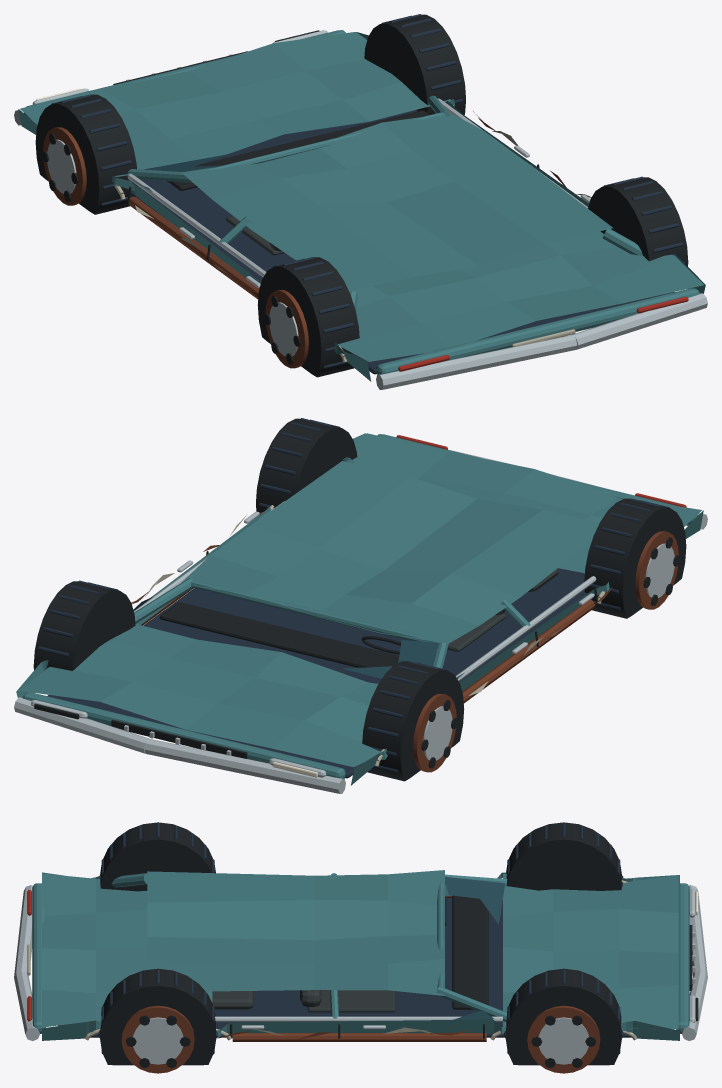
File: crush_car_1_folded.glb
3 views of the same model, one above another, from view 1: azimuth 30°, elevation 25°; view 2: azimuth 150°, elevation 25°; view 3: azimuth 270°, elevation 25° (orthographic). The views are drawn at different scales.
Parts seen in each view (by area): view 1: Wreck_Faded petrol estate.001, Wreck_Rubber, Wreck_Bare alloy, Wreck_Truss steel, Wreck_Exposed rust.003, Wreck_Scraped primer.003, Wreck_Wreck glass, Wreck_Cracked tail lens.003; view 2: Wreck_Faded petrol estate.001, Wreck_Rubber, Wreck_Truss steel, Wreck_Bare alloy, Wreck_Exposed rust.003, Wreck_Wreck glass, Wreck_Torn charcoal upholstery.003; view 3: Wreck_Faded petrol estate.001, Wreck_Rubber, Wreck_Bare alloy, Wreck_Truss steel, Wreck_Exposed rust.003, Wreck_Torn charcoal upholstery.003, Wreck_Wreck glass, Wreck_Scraped primer.003.
Boxes of the visible parts, bbox=[...] form: Wreck_Faded petrol estate.001: bbox=[18, 30, 705, 381]; Wreck_Rubber: bbox=[35, 14, 688, 377]; Wreck_Bare alloy: bbox=[14, 30, 707, 389]; Wreck_Truss steel: bbox=[52, 14, 684, 374]; Wreck_Exposed rust.003: bbox=[43, 111, 566, 368]; Wreck_Scraped primer.003: bbox=[114, 105, 591, 362]; Wreck_Wreck glass: bbox=[132, 100, 468, 194]; Wreck_Cracked tail lens.003: bbox=[398, 296, 688, 371]; Wreck_Faded petrol estate.001: bbox=[16, 433, 703, 785]; Wreck_Rubber: bbox=[33, 418, 686, 781]; Wreck_Truss steel: bbox=[37, 418, 669, 778]; Wreck_Bare alloy: bbox=[14, 434, 707, 793]; Wreck_Exposed rust.003: bbox=[131, 512, 678, 772]; Wreck_Wreck glass: bbox=[133, 597, 469, 678]; Wreck_Torn charcoal upholstery.003: bbox=[447, 568, 559, 651]; Wreck_Faded petrol estate.001: bbox=[32, 870, 689, 1040]; Wreck_Rubber: bbox=[100, 822, 698, 1068]; Wreck_Bare alloy: bbox=[14, 883, 707, 1064]; Wreck_Truss steel: bbox=[58, 823, 631, 1054]; Wreck_Exposed rust.003: bbox=[121, 895, 600, 1073]; Wreck_Torn charcoal upholstery.003: bbox=[212, 990, 395, 1012]; Wreck_Wreck glass: bbox=[445, 876, 505, 1019]; Wreck_Scraped primer.003: bbox=[27, 874, 636, 1040].
Bounding box in the file's own units: 2.99 × 0.709 × 5.13.
